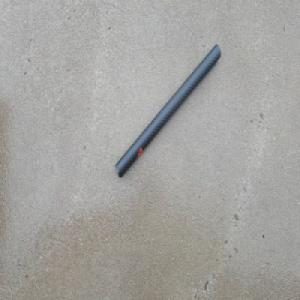LuggagePart: (114, 41, 221, 181)
